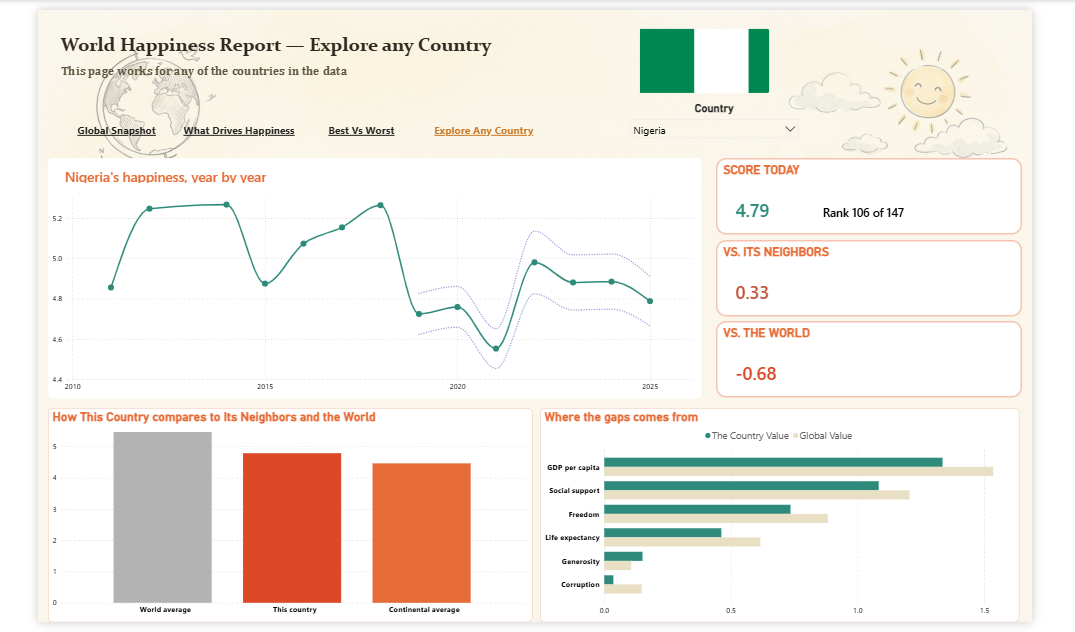

Layout of this report page (visuals, bound fields, positions):
{"tool":"powerbi","page":{"name":"Explore Any Country","canvas":[1950,1200],"ordinal":3},"visuals":[{"type":"image","box":[0,0,1950,300],"z":0},{"type":"textbox","box":[40,40,900,90],"z":1000},{"type":"textbox","box":[40,100,650,70],"z":2000},{"type":"pageNavigator","box":[40,210,950,50],"z":3000},{"type":"slicer","title":"Country","fields":{"Values":["CountrySelector.Country"]},"box":[1150,180,350,80],"z":4000},{"type":"cardVisual","title":"SCORE TODAY","fields":{"Data":["_Measures.SelectedCountryScore"]},"box":[1330,290,600,150],"z":5000},{"type":"lineChart","fields":{"Category":["WHR_Data.Year"],"Y":["_Measures.SelectedCountryScoreByYear","_Measures.SelectedCountryUpper","_Measures.SelectedCountryLower"]},"box":[20,350.1,1280.9,410.9],"z":6000,"group":"g1"},{"type":"cardVisual","title":"VS. ITS NEIGHBORS","fields":{"Data":["_Measures.VsContinent"]},"box":[1330,450,600,150],"z":6000},{"type":"cardVisual","title":"VS. THE WORLD","fields":{"Data":["_Measures.VsGlobal"]},"box":[1330,610,600,150],"z":7000},{"type":"group","id":"g1","title":"Group 1","box":[20,290,1285,465],"z":8000},{"type":"clusteredColumnChart","title":"How This Country compares to Its Neighbors and the World","fields":{"Y":["_Measures.ComparisonValue"],"Category":["ComparisonLabels.Label"]},"box":[20,780,950,420],"z":9000},{"type":"cardVisual","fields":{"Data":["_Measures.TrendTitle"]},"box":[20,290,1280.9,70.2],"z":10000,"group":"g1"},{"type":"clusteredBarChart","title":"Where the gaps comes from","fields":{"Y":["_Measures.SelectedCountryFactorValue","_Measures.GlobalFactorValue"],"Category":["FactorSelector.FactorName"]},"box":[985,780,940,420],"z":10000},{"type":"cardVisual","fields":{"Data":["_Measures.RankSubtitle"]},"box":[1510,360,400,70],"z":11000},{"type":"cardVisual","fields":{"Data":["_Measures.SelectedCountryFlag"]},"box":[1150,20,300,160],"z":12000}]}

Visuals, with their boxes on the page's 1950x1200 design canvas (x1, y1, x2, y2). These are canvas units, not pixel positions in the 1075x632 screenshot, which may show the page scaled, cropped or inside an application window:
image: <bbox>0, 0, 1950, 300</bbox>
textbox: <bbox>40, 40, 940, 130</bbox>
textbox: <bbox>40, 100, 690, 170</bbox>
pageNavigator: <bbox>40, 210, 990, 260</bbox>
"Country" slicer: <bbox>1150, 180, 1500, 260</bbox>
"SCORE TODAY" cardVisual: <bbox>1330, 290, 1930, 440</bbox>
lineChart - WHR_Data.Year x _Measures.SelectedCountryScoreByYear: <bbox>20, 350, 1301, 761</bbox>
"VS. ITS NEIGHBORS" cardVisual: <bbox>1330, 450, 1930, 600</bbox>
"VS. THE WORLD" cardVisual: <bbox>1330, 610, 1930, 760</bbox>
"Group 1" group: <bbox>20, 290, 1305, 755</bbox>
"How This Country compares to Its Neighbors and the World" clusteredColumnChart: <bbox>20, 780, 970, 1200</bbox>
cardVisual - _Measures.TrendTitle: <bbox>20, 290, 1301, 360</bbox>
"Where the gaps comes from" clusteredBarChart: <bbox>985, 780, 1925, 1200</bbox>
cardVisual - _Measures.RankSubtitle: <bbox>1510, 360, 1910, 430</bbox>
cardVisual - _Measures.SelectedCountryFlag: <bbox>1150, 20, 1450, 180</bbox>
